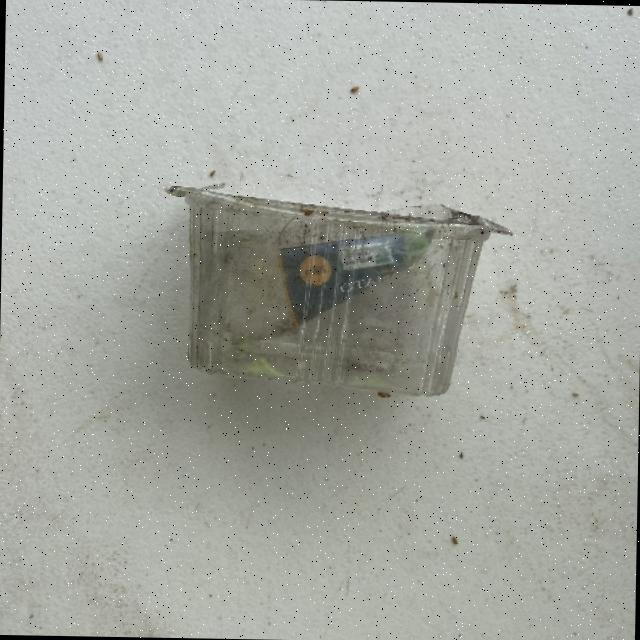plastic: (160, 182, 513, 398)
